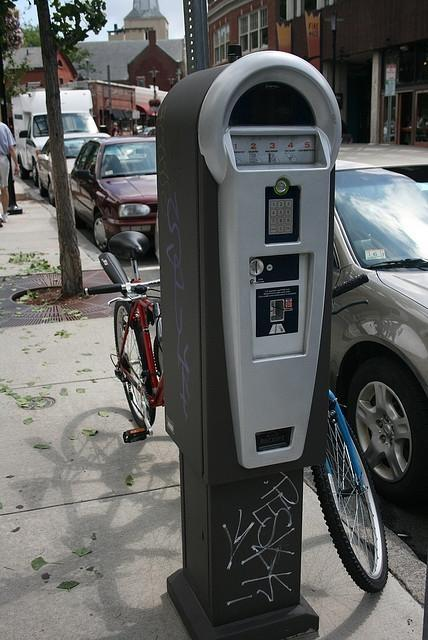bicycle: (304, 274, 388, 589), (84, 230, 166, 442)
car: (327, 138, 428, 526), (69, 136, 158, 253), (33, 131, 112, 206)
truck: (11, 88, 100, 182)
